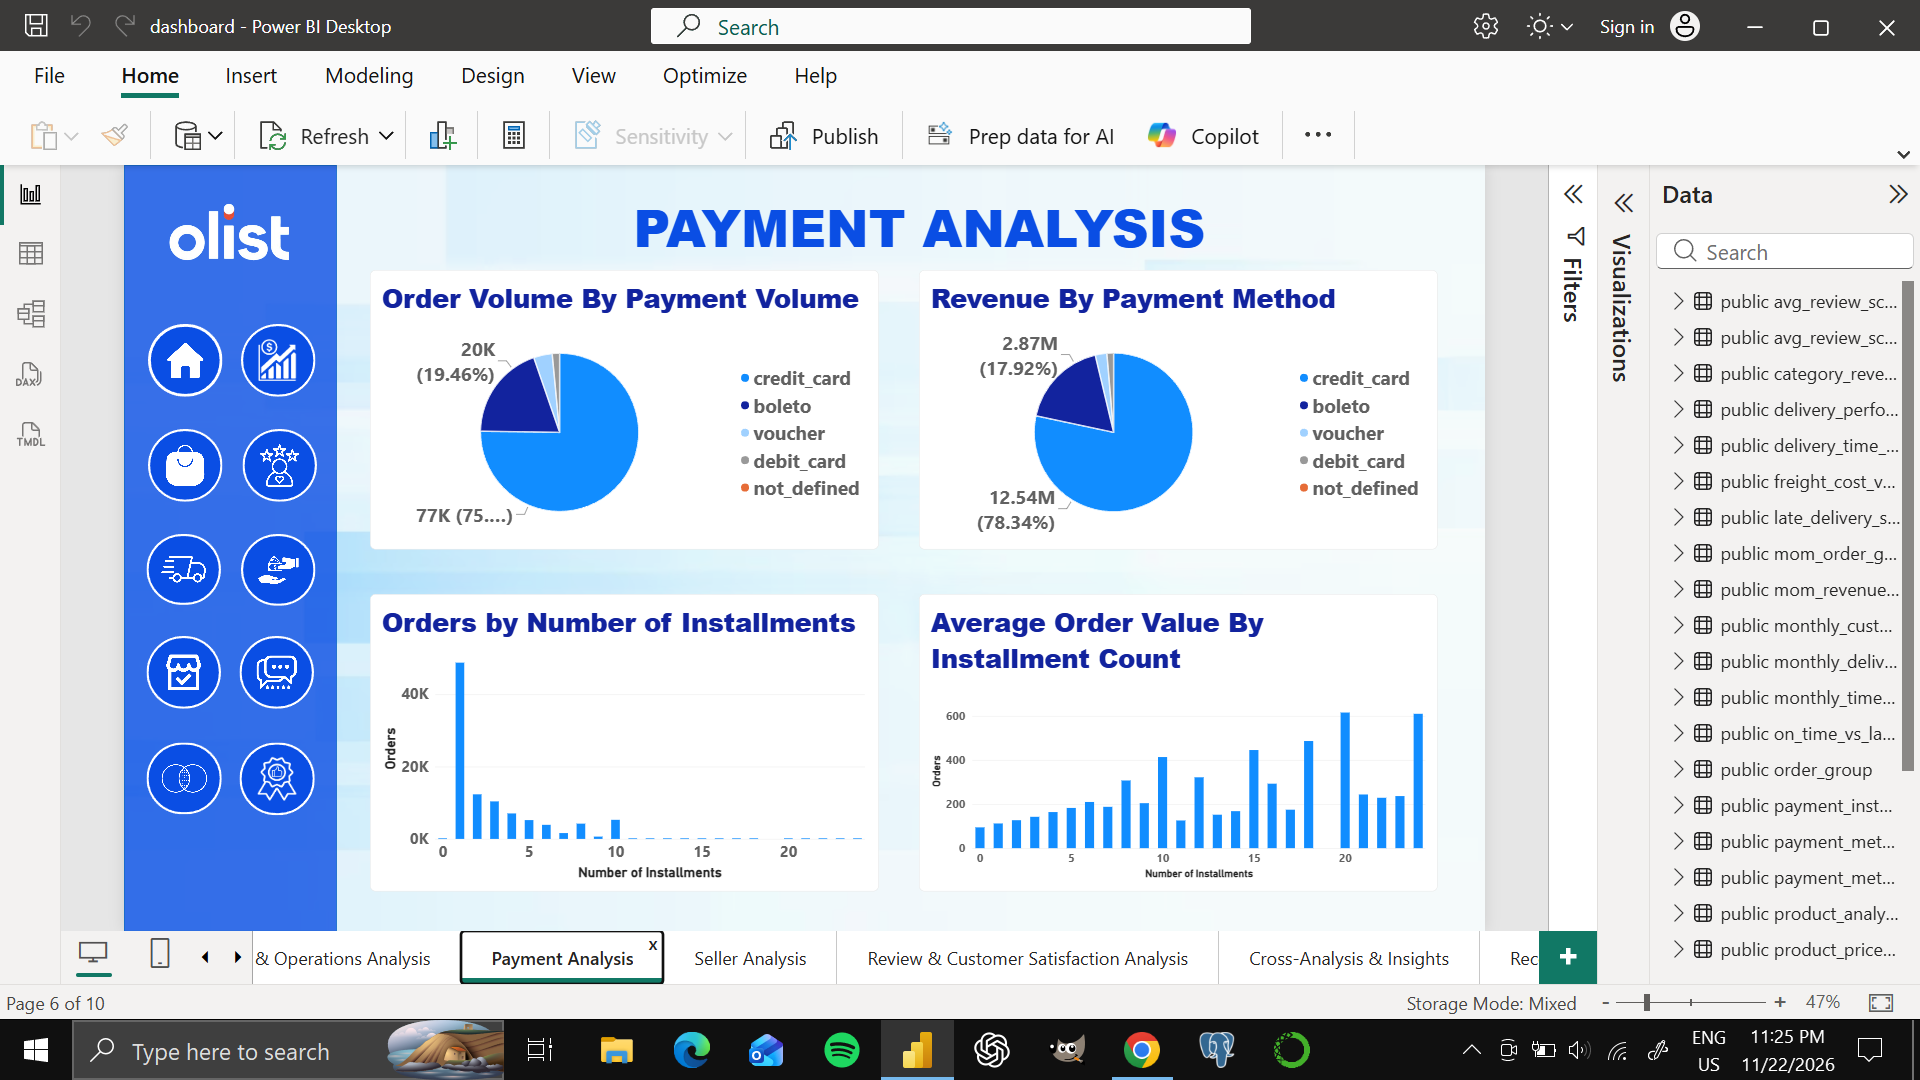

What the dashboard file says about the page in this screenshot:
{"tool":"powerbi","page":{"name":"Payment Analysis","canvas":[1920,1080],"ordinal":5},"visuals":[{"type":"shape","box":[0,0,300.1,1080.8],"z":0},{"type":"image","box":[25.8,53.9,246.2,93.8],"z":1000},{"type":"actionButton","box":[33.8,223.8,105,102.5],"z":2000},{"type":"actionButton","box":[165,223.8,105,102.5],"z":3000},{"type":"actionButton","box":[33.8,371.2,105,102.5],"z":4000},{"type":"actionButton","box":[166.2,371.2,105,102.5],"z":5000},{"type":"actionButton","box":[32.5,520,105,100],"z":6000},{"type":"actionButton","box":[165,520,105,101.2],"z":7000},{"type":"actionButton","box":[31.2,665,105,102.5],"z":8000},{"type":"actionButton","box":[163.8,665,105,102.5],"z":9000},{"type":"actionButton","box":[31.2,815,106.2,101.2],"z":10000},{"type":"textbox","box":[424.4,35.2,1392.6,112.5],"z":11000},{"type":"pieChart","title":"Order Volume By Payment Volume","fields":{"Category":["public payment_method_distribution_by_order_volume.payment_type"],"Y":["Sum(public payment_method_distribution_by_order_volume.orders)"]},"box":[347,147.7,717.4,393.9],"z":12000},{"type":"pieChart","title":"Revenue By Payment Method","fields":{"Category":["public payment_method_distribution_by_order_volume.payment_type"],"Y":["Sum(public payment_method_distribution_by_revenue.total_payment_value)"]},"box":[1120.7,147.7,731.5,393.9],"z":13000},{"type":"columnChart","title":"Orders by Number of Installments","fields":{"Category":["public payment_installments_order_percentage_and_avg_order_value.payment_installments"],"Y":["Sum(public payment_installments_order_percentage_and_avg_order_value.orders)"]},"box":[347,604.9,717.4,419.7],"z":14000},{"type":"columnChart","title":"Average Order Value By Installment Count","fields":{"Category":["public payment_installments_order_percentage_and_avg_order_value.payment_installments"],"Y":["Sum(public payment_installments_order_percentage_and_avg_order_value.average_payment_value)"]},"box":[1120.7,604.9,731.5,419.7],"z":15000},{"type":"actionButton","box":[163.8,815,106.2,102.5],"z":16000}]}

Visuals, with their boxes on the page's 1920x1080 design canvas (x1, y1, x2, y2). These are canvas units, not pixel positions in the 1920x1080 screenshot, which may show the page scaled, cropped or inside an application window:
shape: 0,0,300,1081
image: 26,54,272,148
actionButton: 34,224,139,326
actionButton: 165,224,270,326
actionButton: 34,371,139,474
actionButton: 166,371,271,474
actionButton: 32,520,138,620
actionButton: 165,520,270,621
actionButton: 31,665,136,768
actionButton: 164,665,269,768
actionButton: 31,815,137,916
textbox: 424,35,1817,148
"Order Volume By Payment Volume" pieChart: 347,148,1064,542
"Revenue By Payment Method" pieChart: 1121,148,1852,542
"Orders by Number of Installments" columnChart: 347,605,1064,1025
"Average Order Value By Installment Count" columnChart: 1121,605,1852,1025
actionButton: 164,815,270,918
